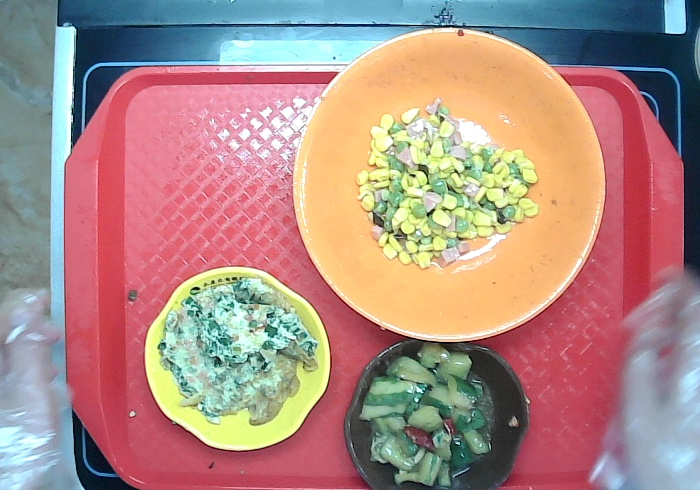YKMZ-Huang_Se_Ao_Bian_Wan: (142, 265, 333, 453)
YKMZ-Ju_Se_Tang_Wan: (292, 24, 608, 344)
YKMZ-Ka_Fei_Ao_Bian_Wan: (342, 337, 532, 490)
